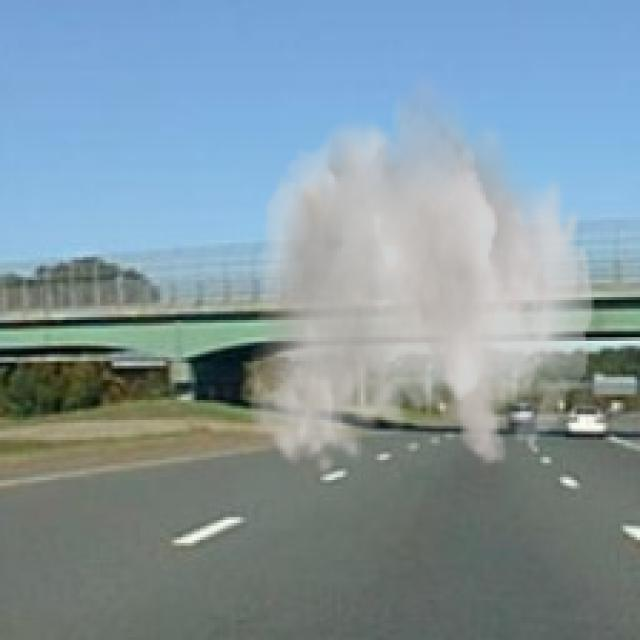Smoke: (246, 66, 594, 480)
